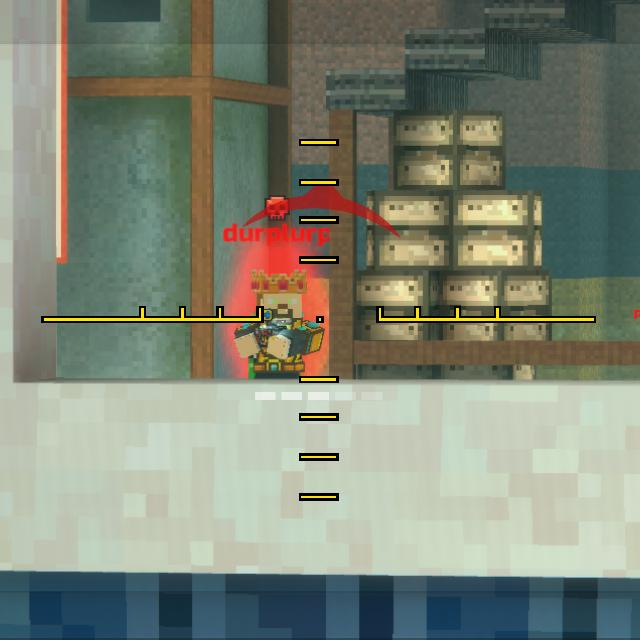Enemy: (235, 273, 327, 378)
